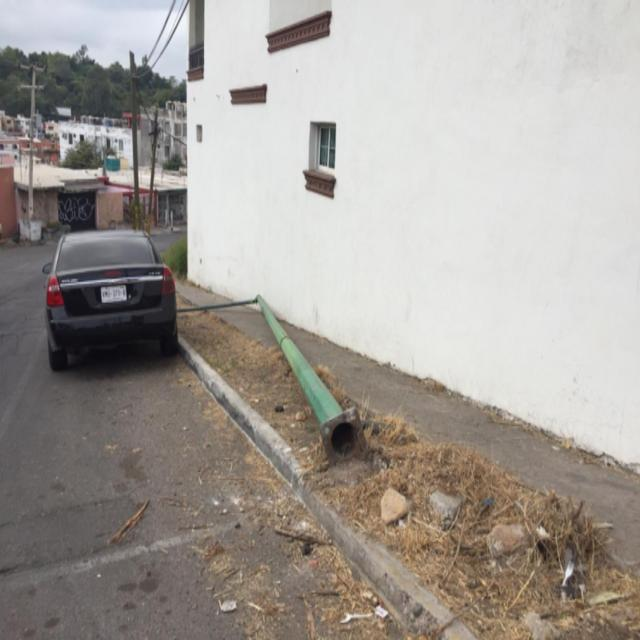Inclined Pole: (180, 295, 377, 462)
